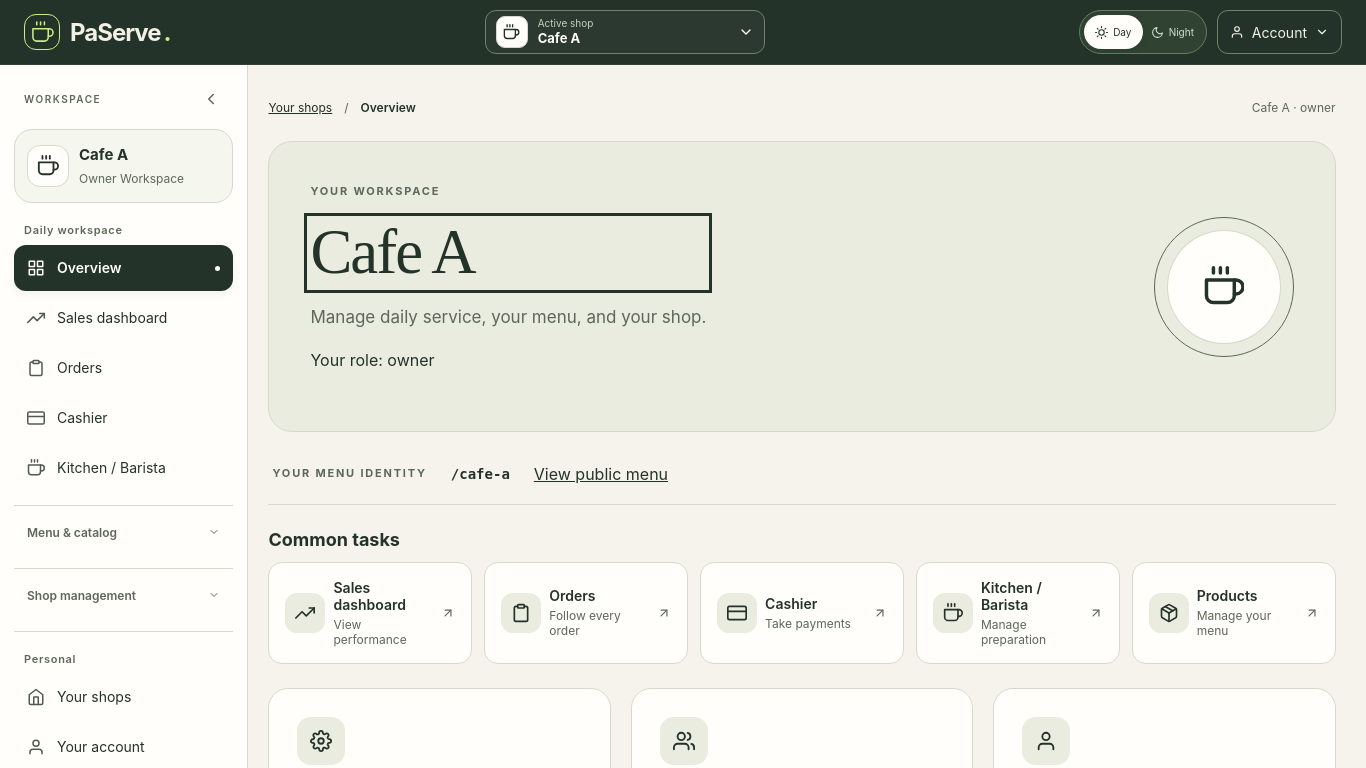
Test: switches to an admin's shop and updates navigation and the page context
Expected: the heading "Cafe A" is shown, [310,217,475,287]
Click the heading labelled "Active shop Cafe A". click: [512, 32]
box: [485,10,765,54]
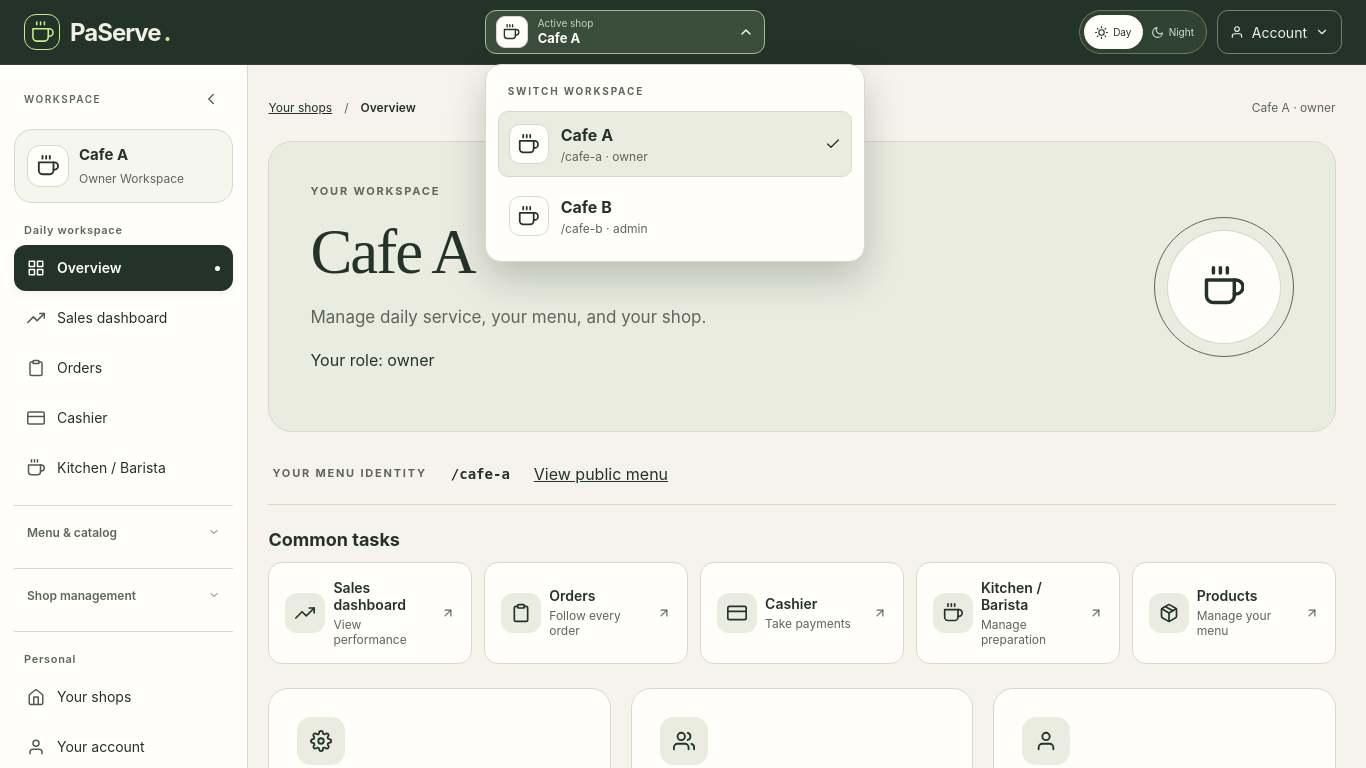
Click the button "Cafe B /cafe-b · admin". click: [529, 216]
box: [498,183,852,249]
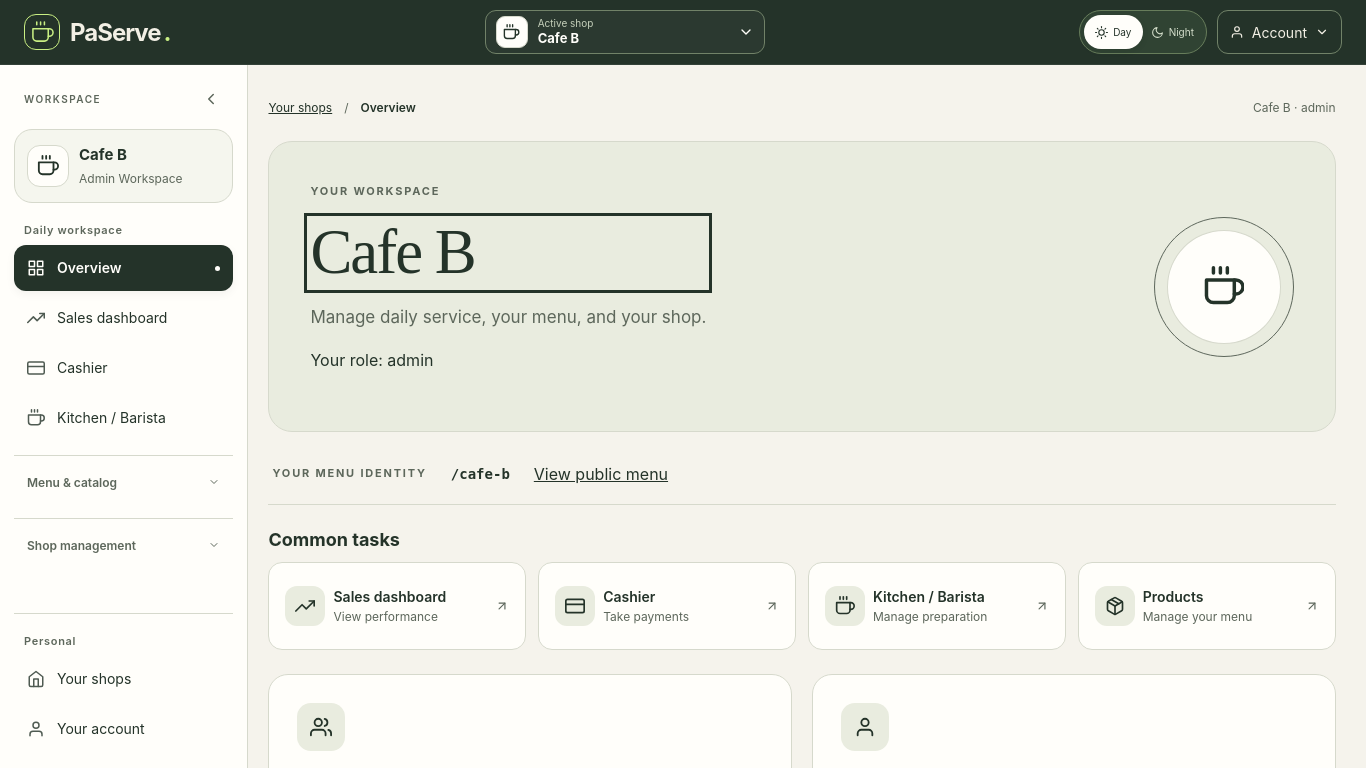
Now the heading "Cafe B" is shown, box [310,217,475,287]
Now the text "Your role: admin" is shown, box [310,350,434,370]
Now the link "Orders" is gone
